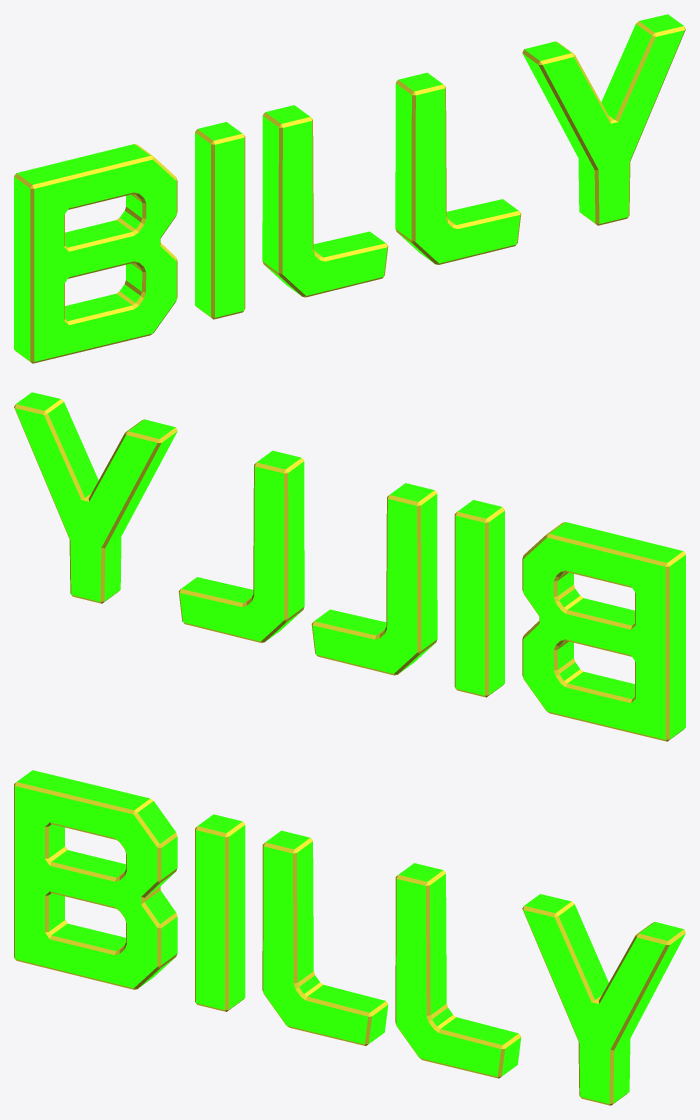
File: Billy_text.fbx
3 renders of one model, top to bottom at view 1: azimuth 30°, elevation 25°; view 2: azimuth 150°, elevation 25°; view 3: azimuth 330°, elevation 25°, orthographic.
Parts seen in each view (by area): view 1: Text.008; view 2: Text.008; view 3: Text.008.
Part boxes in pixels (bbox=[...]): Text.008: bbox=[14, 14, 685, 363]; Text.008: bbox=[14, 392, 685, 741]; Text.008: bbox=[14, 770, 685, 1105].
Bounding box in the file's own units: 17.75 × 4.65 × 0.9.
